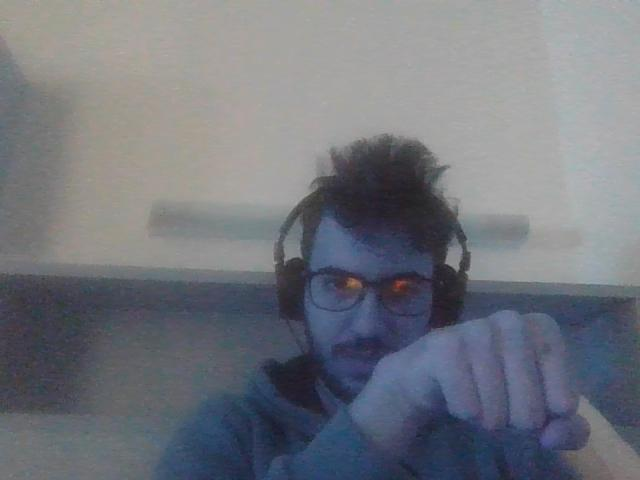yes: (408, 308, 595, 450)
